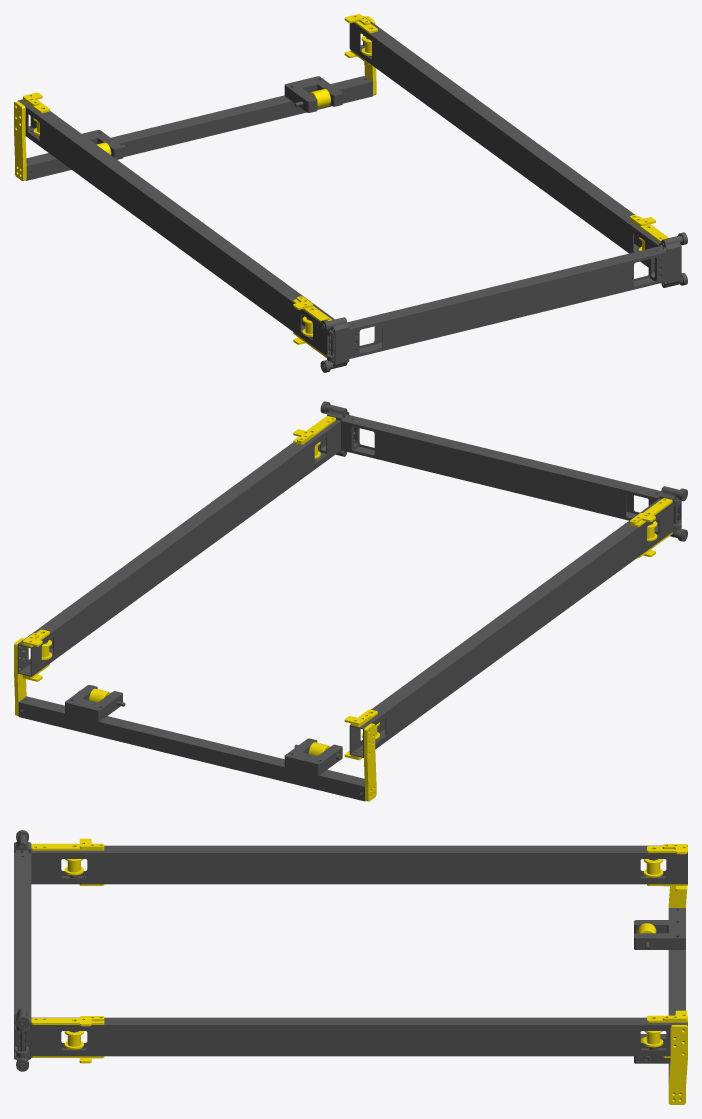
3 renders of one model, top to bottom at view 1: azimuth 30°, elevation 25°; view 2: azimuth 150°, elevation 25°; view 3: azimuth 270°, elevation 25°, orthographic. The views are drawn at different scales.
Visible parts, largest first — view 1: NAUO2, NAUO3, NAUO1, NAUO16, NAUO53 (×2), NAUO25, NAUO20; view 2: NAUO3, NAUO2, NAUO1, NAUO16, NAUO26, NAUO25, NAUO20; view 3: NAUO2, NAUO3, NAUO1, NAUO19, NAUO26, NAUO16, NAUO53, NAUO6.
Boxes of the visible parts, x1,y1,x2,y2 form: NAUO2: (18, 99, 334, 356); NAUO3: (349, 16, 660, 267); NAUO1: (347, 246, 667, 358); NAUO16: (26, 76, 372, 180); NAUO53 (×2): (327, 236, 681, 368); NAUO25: (284, 76, 342, 112); NAUO20: (14, 101, 26, 180); NAUO3: (17, 419, 340, 676); NAUO2: (349, 498, 673, 757); NAUO1: (341, 415, 661, 520); NAUO16: (18, 696, 364, 801); NAUO26: (284, 738, 342, 775); NAUO25: (65, 685, 122, 721); NAUO20: (364, 723, 376, 801); NAUO2: (31, 845, 687, 884); NAUO3: (31, 1017, 687, 1056); NAUO1: (14, 853, 31, 1014); NAUO19: (668, 1025, 687, 1104); NAUO26: (634, 920, 685, 949); NAUO16: (668, 908, 685, 1083); NAUO53: (14, 1008, 31, 1060); NAUO6: (31, 843, 104, 850).
Bounding box in the file's own units: 0.6556 × 0.1461 × 0.9938.
